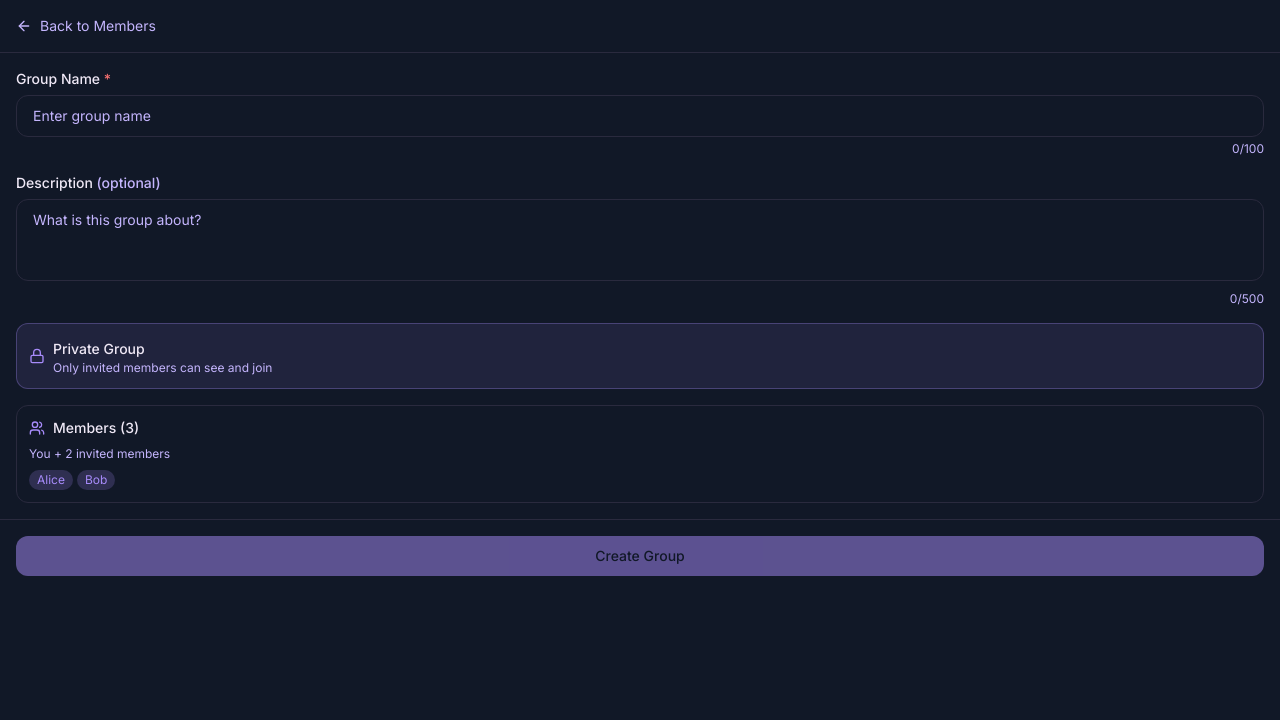
Test: GroupDetailsForm › Form validation › shows character count for description
Type "A test description" into the text box labelled "Description (optional)".
click(640, 240); type("A test description")  # box [16,199,1264,281]
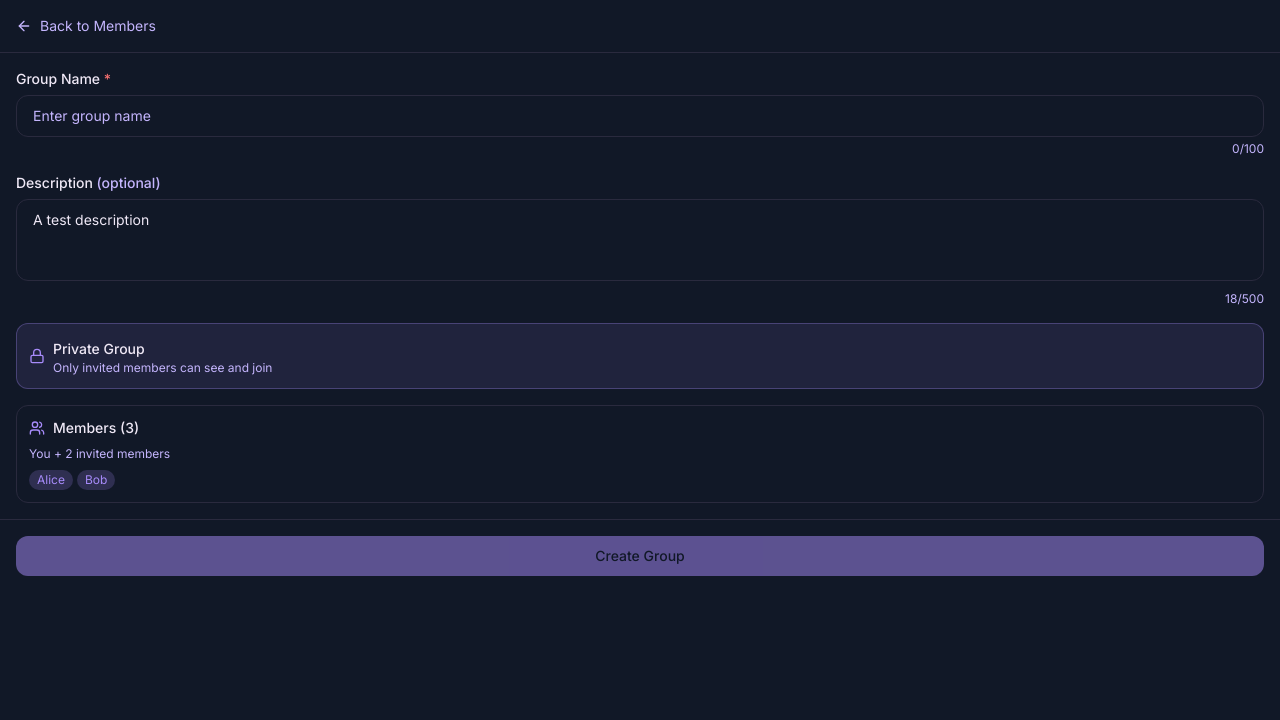
Check: the text "18/500" is shown, box [1225,291,1264,307]
